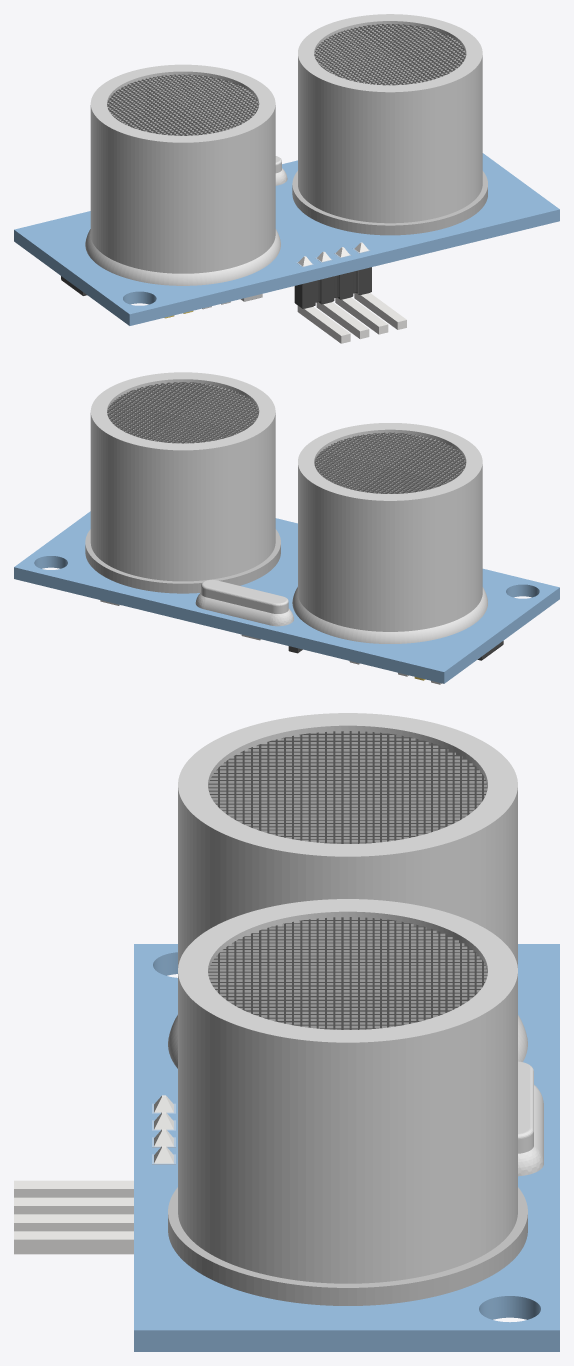
The picture shows the model from 3 angles, top to bottom: view 1: azimuth 30°, elevation 25°; view 2: azimuth 150°, elevation 25°; view 3: azimuth 270°, elevation 25°; orthographic projection. The views are drawn at different scales.
Parts seen in each view (by area): view 1: Node1, Node6, Node11, Node8, Node3, Node2, Node9; view 2: Node1, Node6, Node11, Node8, Node3, Node9; view 3: Node6, Node1, Node11, Node8, Node3, Node2, Node9.
Boxes of the visible parts, box(x1,y1,x2,y2) form: Node1: box(85, 14, 482, 285); Node6: box(298, 21, 482, 223); Node11: box(14, 153, 559, 325); Node8: box(61, 24, 466, 308); Node3: box(90, 64, 275, 142); Node2: box(297, 242, 406, 343); Node9: box(292, 171, 487, 294); Node1: box(90, 372, 487, 643); Node6: box(90, 379, 275, 581); Node11: box(14, 511, 559, 683); Node8: box(107, 382, 503, 660); Node3: box(298, 423, 482, 500); Node9: box(85, 529, 280, 593); Node6: box(178, 911, 517, 1283); Node1: box(168, 725, 543, 1176); Node11: box(134, 944, 559, 1351); Node8: box(208, 731, 487, 1029); Node3: box(178, 713, 517, 856); Node2: box(14, 1095, 173, 1254); Node9: box(152, 1147, 527, 1305).
Size of the model in its own units: 45.7 by 19.3 by 27.3.
